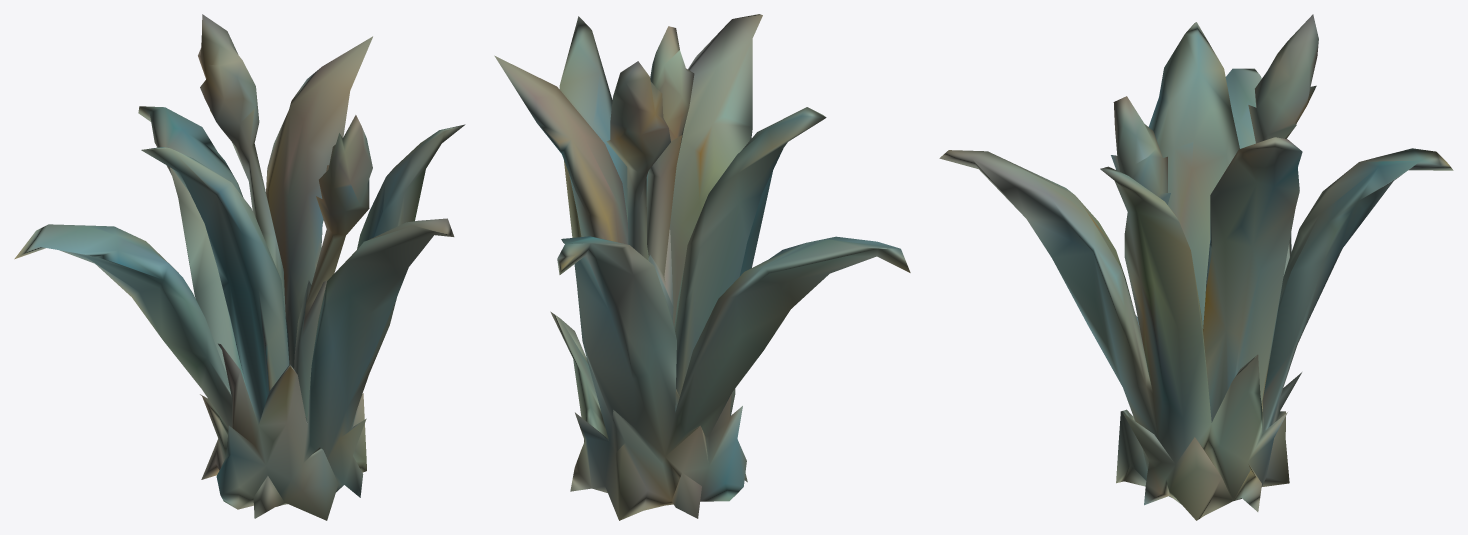
File: PondSeeds_game.glb
3 views of the same model, side by side, from view 1: azimuth 30°, elevation 25°; view 2: azimuth 150°, elevation 25°; view 3: azimuth 270°, elevation 25° (orthographic). The views are drawn at different scales.
Visible parts, largest first — view 1: PondSeeds; view 2: PondSeeds; view 3: PondSeeds.
Part boxes in pixels (box(x1,y1,x2,y2)): PondSeeds: box(14, 14, 465, 520); PondSeeds: box(494, 14, 910, 520); PondSeeds: box(939, 14, 1453, 520).
Bounding box in the file's own units: 0.8646 × 0.9631 × 0.9874.
